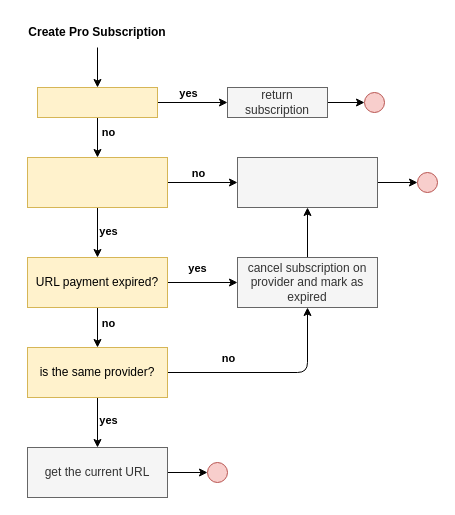
Image size: 455x515. Some labels were removed from this diagram. The centre of each missing label's shape, as x and y in pixels:
create subscription with pending state: the point at 307,182
has pending payment Pro Subscription?: the point at 97,182
has Pro Subscription Active?: the point at 97,102
